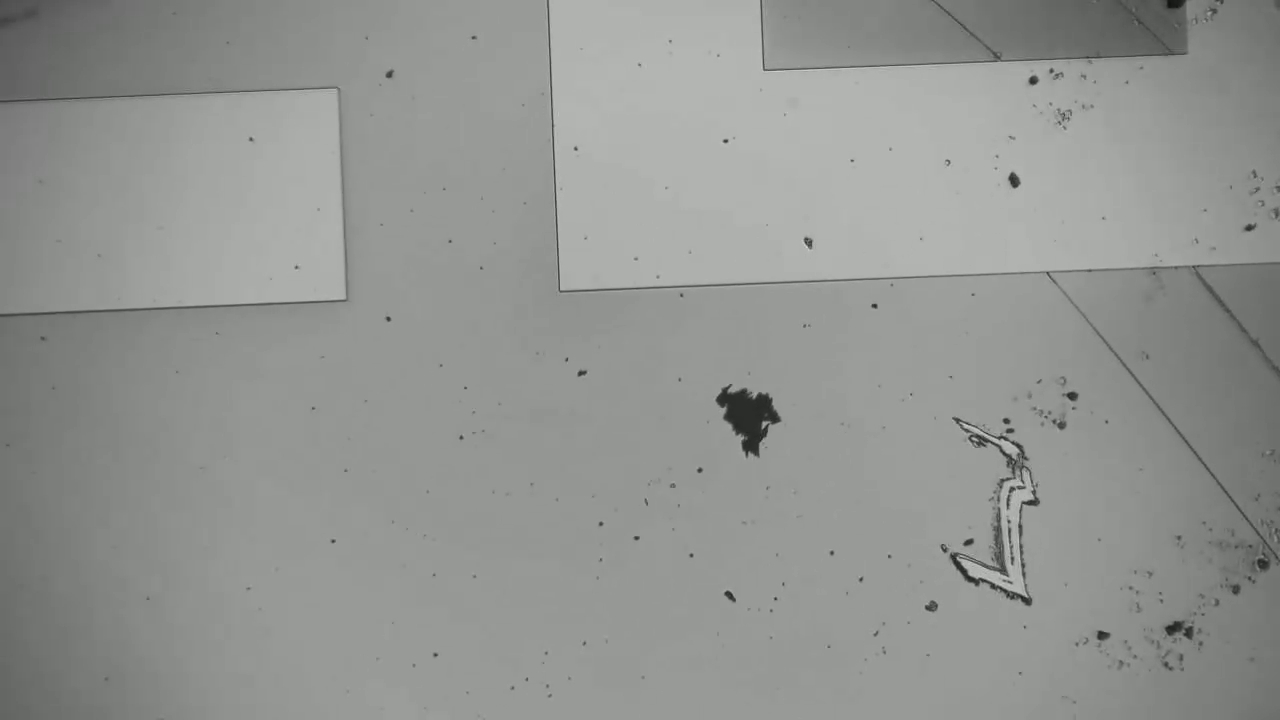scratch: (1041, 275, 1280, 566), (1188, 256, 1280, 366), (933, 1, 1020, 56)
